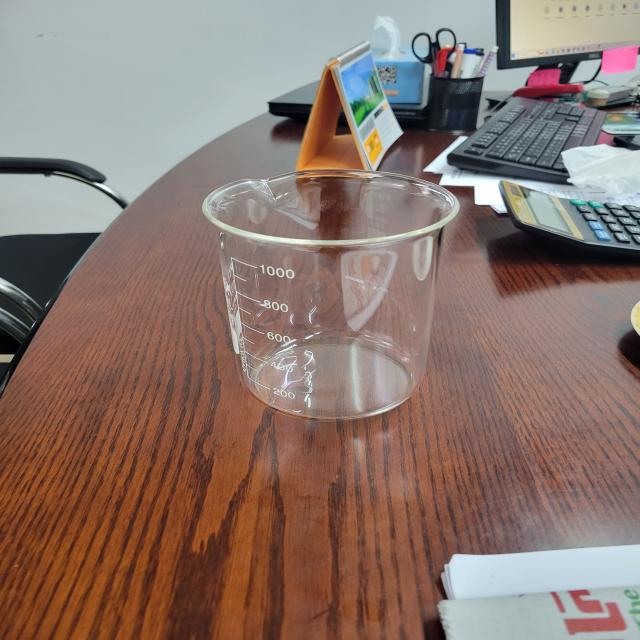Beaker: (194, 161, 474, 434)
